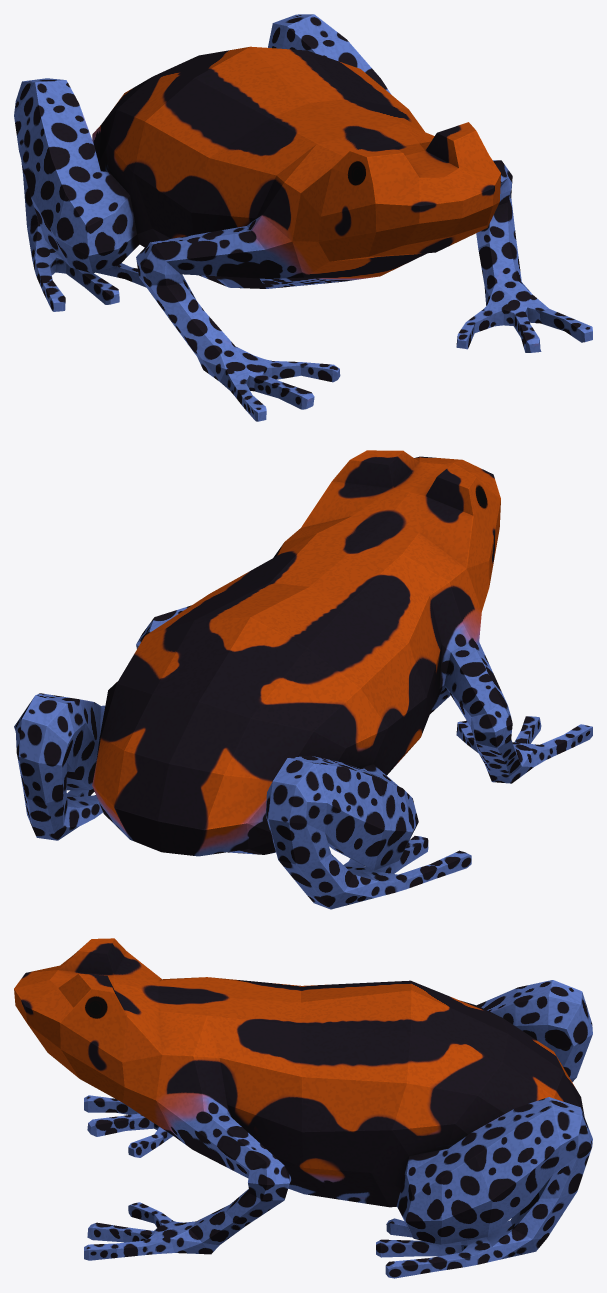
Rendered from 4c5fd1f0-8ef5-4adf-b7e4-eb3abb51be7c.glb.
The picture shows the model from 3 angles, top to bottom: view 1: azimuth 30°, elevation 25°; view 2: azimuth 150°, elevation 25°; view 3: azimuth 270°, elevation 25°; orthographic projection. The views are drawn at different scales.
Parts seen in each view (by area): view 1: PoisonDartFrog_Mesh; view 2: PoisonDartFrog_Mesh; view 3: PoisonDartFrog_Mesh.
Boxes of the visible parts, bbox=[...] form: PoisonDartFrog_Mesh: bbox=[14, 14, 592, 421]; PoisonDartFrog_Mesh: bbox=[14, 450, 592, 909]; PoisonDartFrog_Mesh: bbox=[14, 938, 592, 1278].
Bounding box in the file's own units: 3.13 × 1.71 × 4.01.
1 material, 1 textured.
